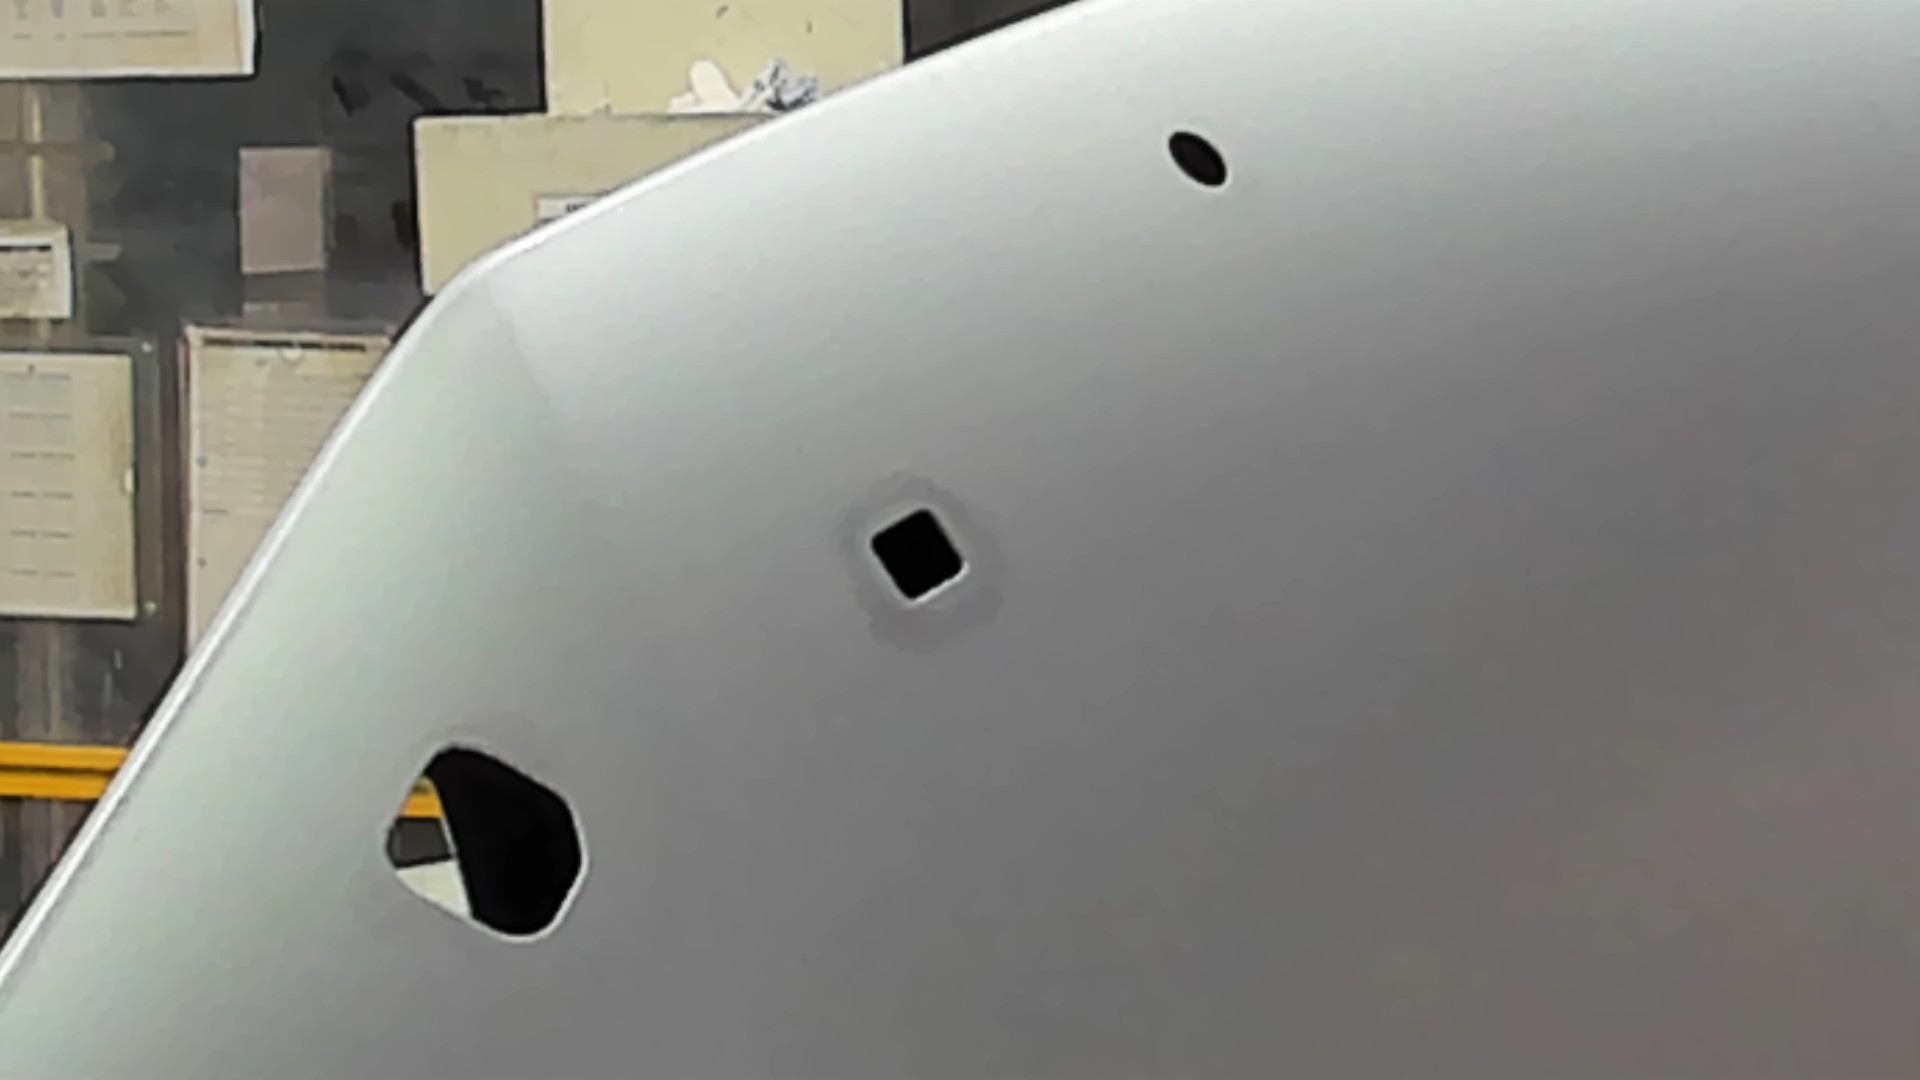chico: (1166, 128, 1232, 190)
grande: (380, 740, 592, 945)
mediano: (868, 505, 968, 611)
